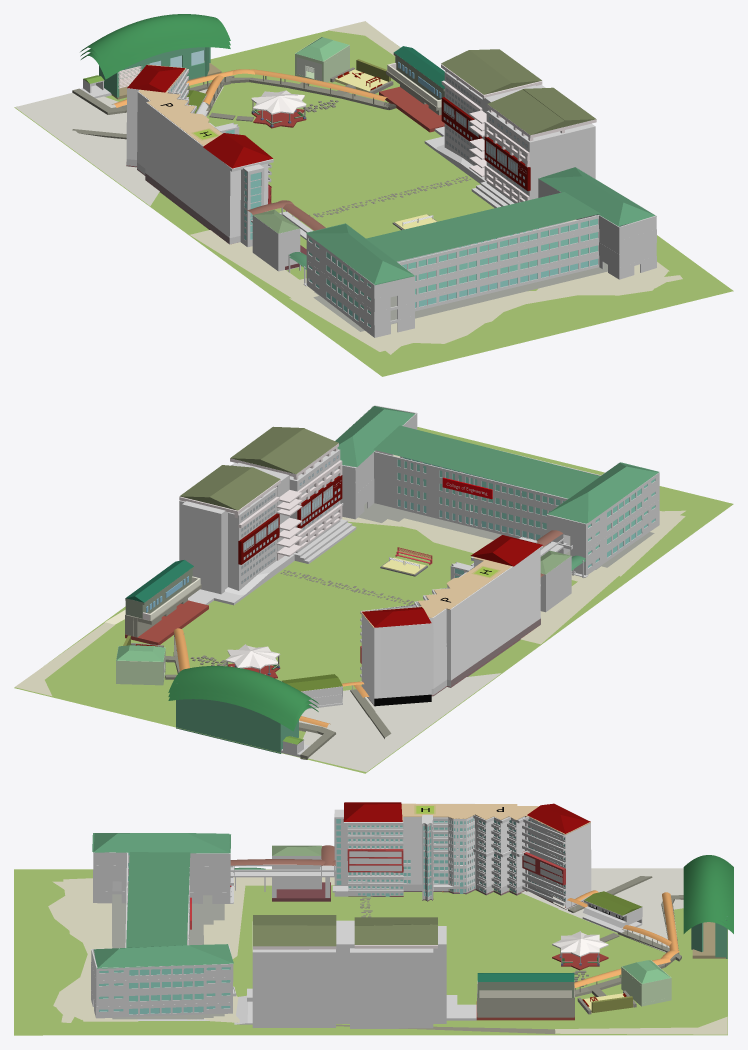
File: new campus.glb
The picture shows the model from 3 angles, top to bottom: view 1: azimuth 30°, elevation 25°; view 2: azimuth 150°, elevation 25°; view 3: azimuth 270°, elevation 25°; orthographic projection. The views are drawn at different scales.
Visible parts, largest first — view 1: Plane.941, Plane, bubong to pre, Concrete 21, 4flr, 2flr, 3flr, Cube.045, SurfPatch.012, 1flr, Concrete 2, Cube.079 (+38 smaller); view 2: Plane.941, Concrete 21, bubong to pre, 4flr, Concrete 2, SurfPatch.012, Cube.252, 2flr, 3flr, Cube.043, 1flr, Cube.079 (+38 smaller); view 3: Plane.941, Plane, Cube.042, Cube.045, bubong to pre, Concrete 21, SurfPatch.012, 4flr, bubong ng en.001, bubong ng en, 3flr, Cube.079 (+63 smaller).
Part boxes in pixels (x1,y1,x2,y2): Plane.941: [14, 30, 708, 358]; Plane: [358, 273, 733, 376]; bubong to pre: [366, 192, 600, 261]; Concrete 21: [15, 92, 159, 205]; 4flr: [306, 177, 656, 298]; 2flr: [306, 214, 656, 324]; 3flr: [306, 192, 656, 311]; Cube.045: [486, 110, 595, 203]; SurfPatch.012: [80, 14, 230, 71]; 1flr: [306, 216, 656, 337]; Concrete 2: [190, 230, 442, 354]; Cube.079: [488, 87, 596, 135]; Plane.941: [14, 510, 708, 773]; Concrete 21: [303, 673, 501, 772]; bubong to pre: [373, 425, 600, 498]; 4flr: [337, 405, 659, 537]; Concrete 2: [402, 510, 685, 644]; SurfPatch.012: [168, 666, 318, 723]; Cube.252: [176, 683, 281, 753]; 2flr: [340, 456, 659, 563]; 3flr: [342, 426, 659, 550]; Cube.043: [182, 501, 228, 594]; 1flr: [342, 450, 659, 575]; Cube.079: [230, 426, 338, 474]; Plane.941: [62, 869, 727, 1035]; Plane: [14, 869, 61, 1035]; Cube.042: [350, 948, 433, 1028]; Cube.045: [252, 921, 335, 1027]; bubong to pre: [126, 852, 190, 947]; Concrete 21: [521, 868, 683, 921]; SurfPatch.012: [683, 855, 733, 925]; 4flr: [91, 852, 233, 980]; bubong ng en.001: [94, 944, 233, 968]; bubong ng en: [93, 833, 230, 853]; 3flr: [91, 855, 233, 993]; Cube.079: [253, 915, 336, 946].
Size of the model in its own units: 61.85 by 17.47 by 113.
